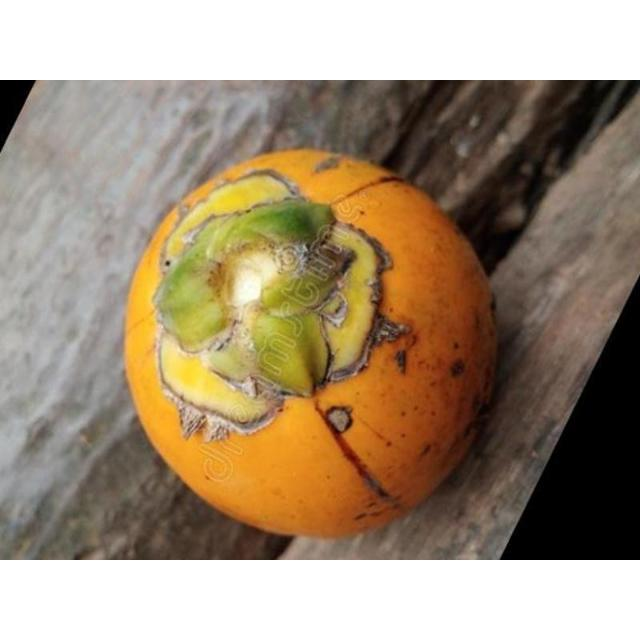good: (122, 154, 493, 540)
